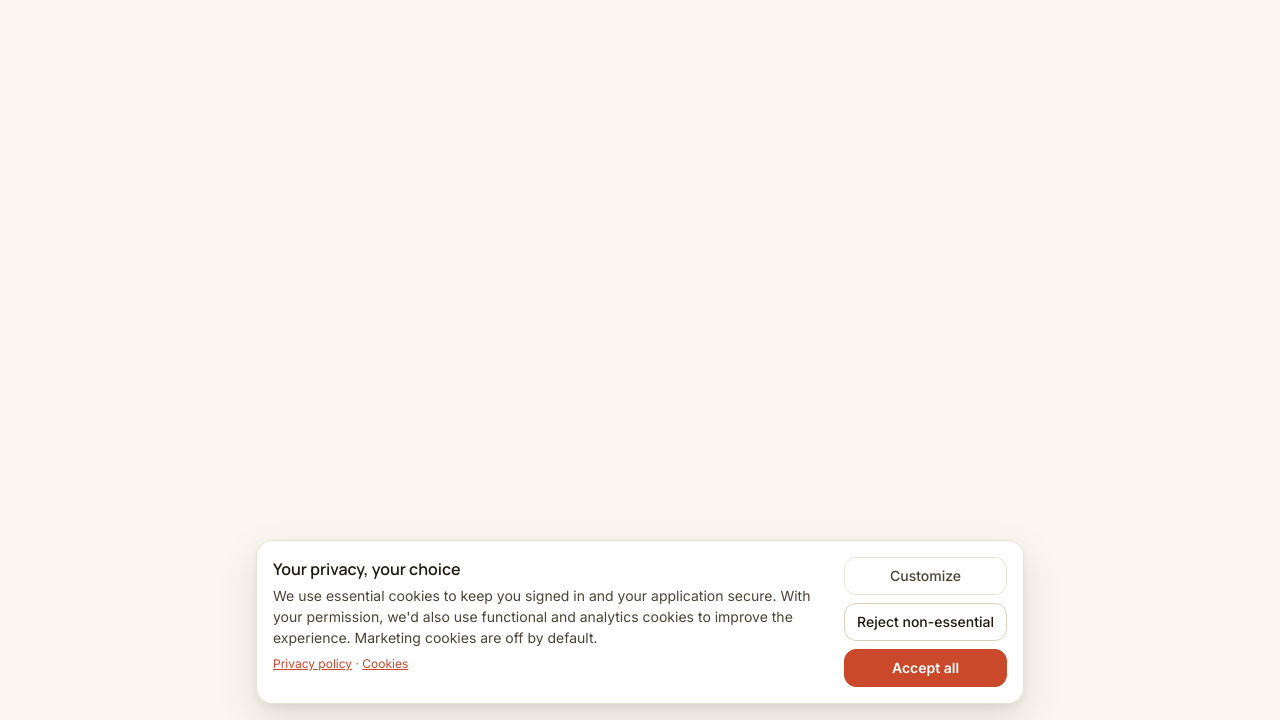
Test case: CookieBanner › Customize opens the preferences modal
Click the button with test id "cookie-banner-customize" at (926, 576), box [844, 557, 1007, 595]
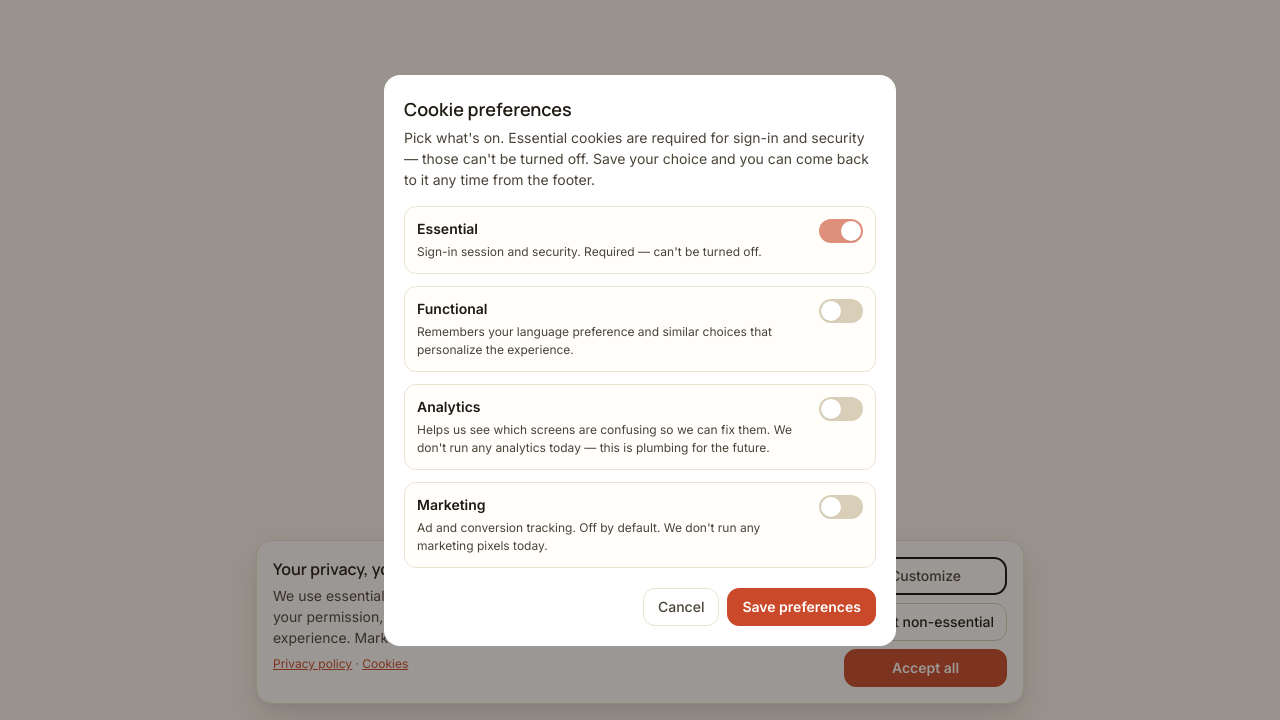
Expected: the dialog with test id "cookie-preferences-modal" is shown
